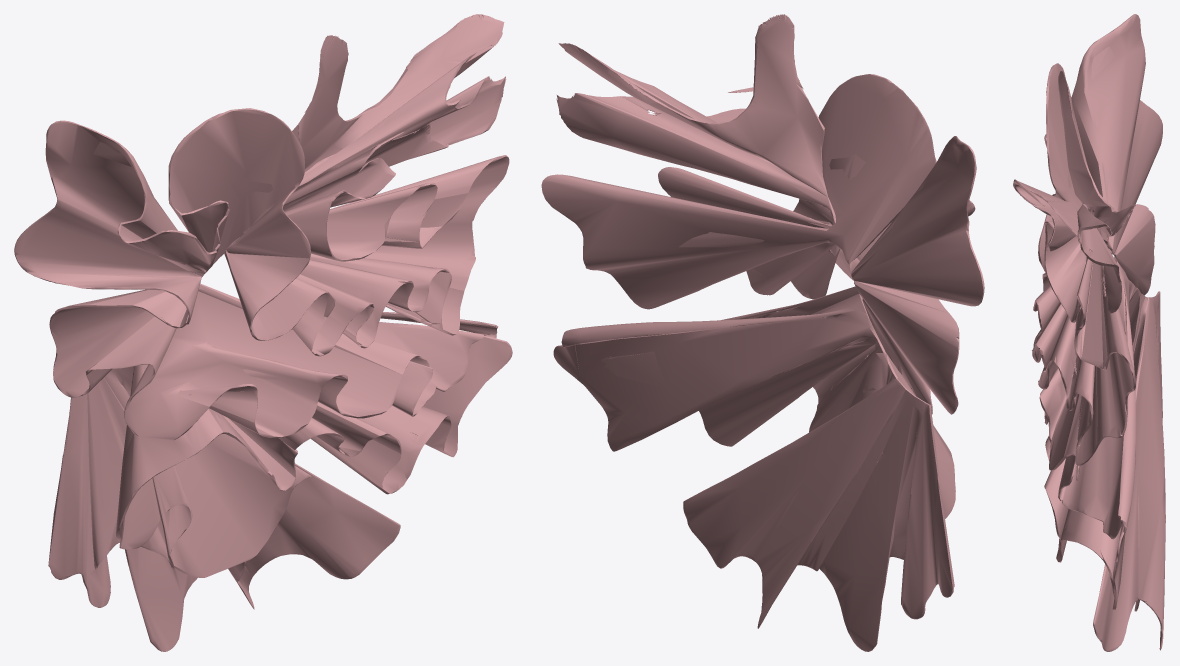
File: fma14643_fj4650.glb
3 renders of one model, left to right at view 1: azimuth 30°, elevation 25°; view 2: azimuth 150°, elevation 25°; view 3: azimuth 270°, elevation 25°, orthographic. The views are drawn at different scales.
Parts seen in each view (by area): view 1: FMA14643_FJ4650; view 2: FMA14643_FJ4650; view 3: FMA14643_FJ4650.
Boxes of the visible parts, x1,y1,x2,y2 form: FMA14643_FJ4650: [14, 14, 512, 651]; FMA14643_FJ4650: [541, 14, 984, 651]; FMA14643_FJ4650: [1013, 14, 1165, 651].
Size of the model in its own units: 0.1726 by 0.2105 by 0.0487.
